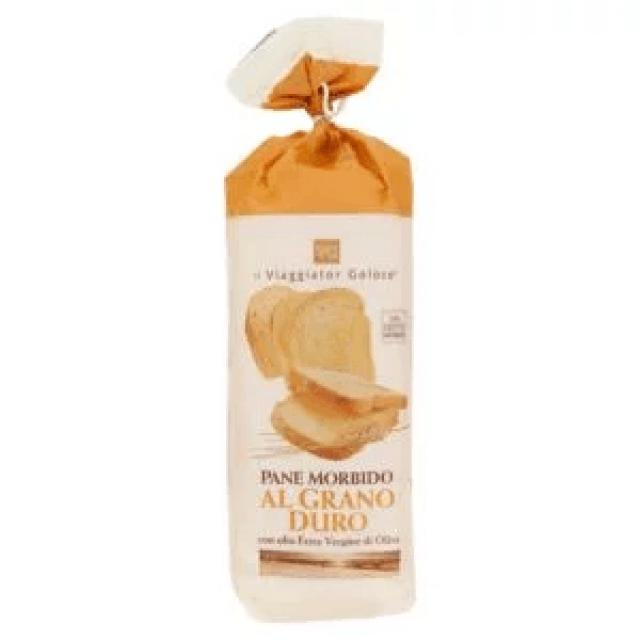Bread loaf: (226, 17, 418, 627)
